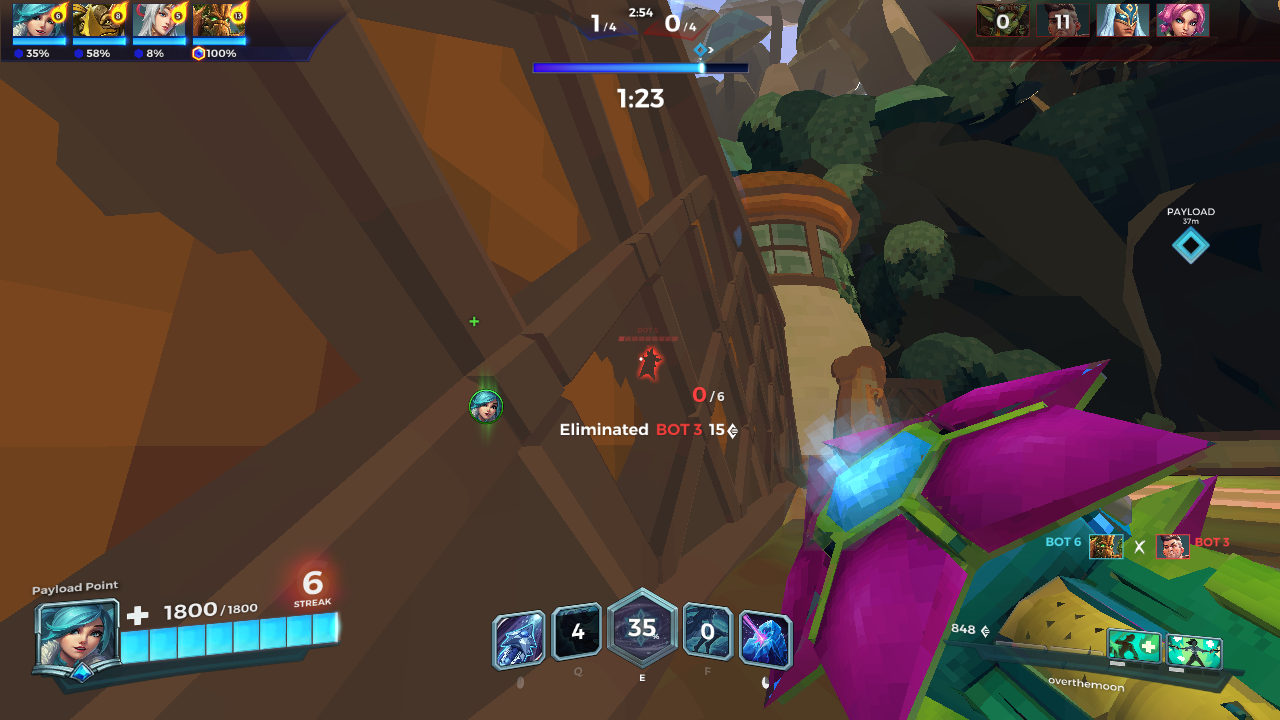model: (636, 337, 661, 382)
